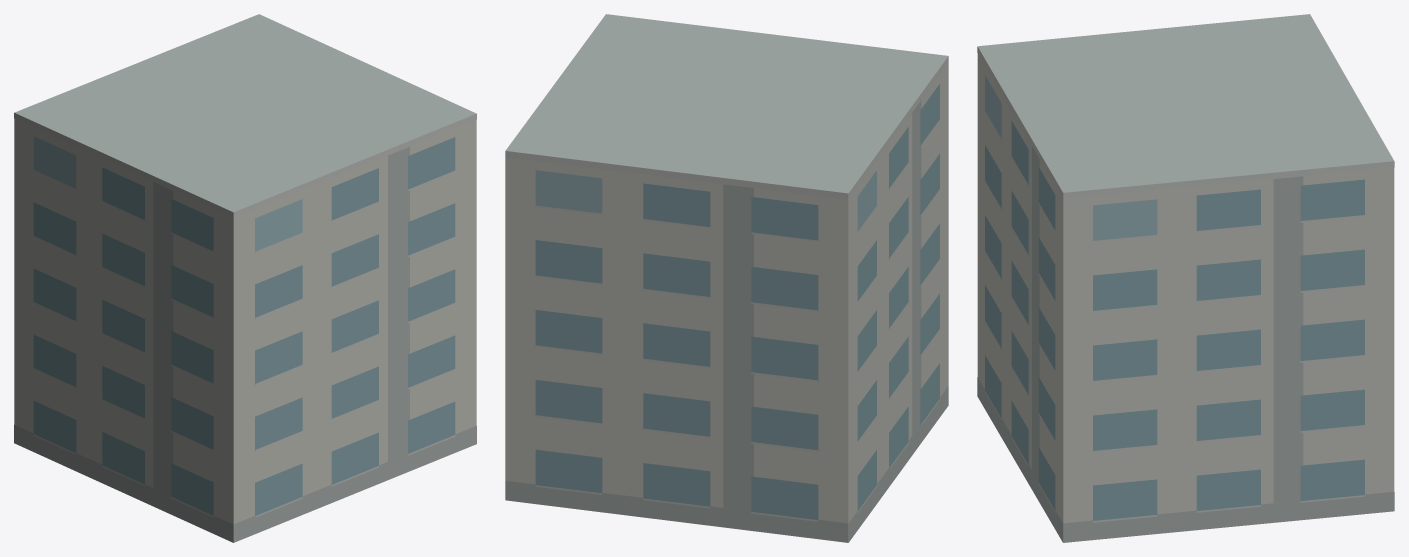
File: survey-upis-32824115.glb
3 views of the same model, side by side, from view 1: azimuth 30°, elevation 25°; view 2: azimuth 150°, elevation 25°; view 3: azimuth 270°, elevation 25° (orthographic). The views are drawn at different scales.
Parts seen in each view (by area): view 1: survey-upis-32824115.tmp; view 2: survey-upis-32824115.tmp; view 3: survey-upis-32824115.tmp.
Part boxes in pixels (x1,y1,x2,y2): survey-upis-32824115.tmp: (14, 14, 476, 542); survey-upis-32824115.tmp: (505, 14, 948, 542); survey-upis-32824115.tmp: (977, 14, 1394, 542).
Bounding box in the file's own units: 14.58 × 13.3 × 14.37.
